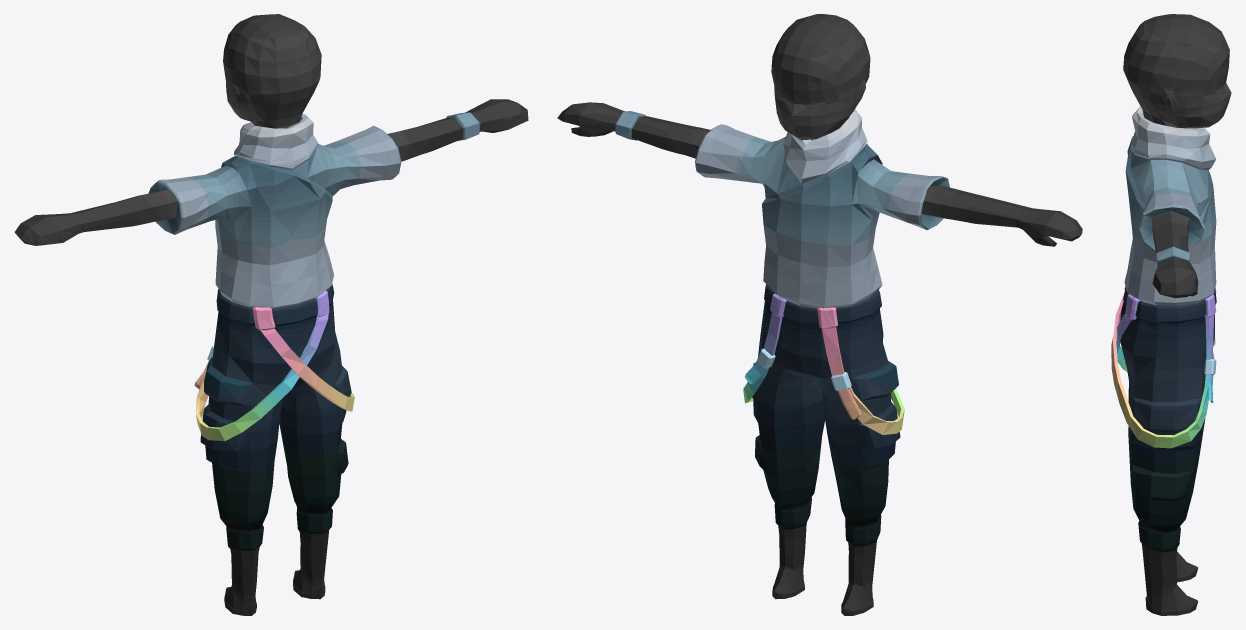
The model's file is CharSkyKid_Body_Rainbow_01.glb.
3 views of the same model, side by side, from view 1: azimuth 30°, elevation 25°; view 2: azimuth 150°, elevation 25°; view 3: azimuth 270°, elevation 25° (orthographic).
Parts seen in each view (by area): view 1: CharSkyKid_Body_Rainbow_01; view 2: CharSkyKid_Body_Rainbow_01; view 3: CharSkyKid_Body_Rainbow_01.
Part boxes in pixels (box(x1,y1,x2,y2)): CharSkyKid_Body_Rainbow_01: box(14, 14, 528, 615); CharSkyKid_Body_Rainbow_01: box(557, 14, 1082, 615); CharSkyKid_Body_Rainbow_01: box(1111, 14, 1231, 615).
Size of the model in its own units: 13.83 by 14.9 by 2.82.
1 material, 1 textured.
